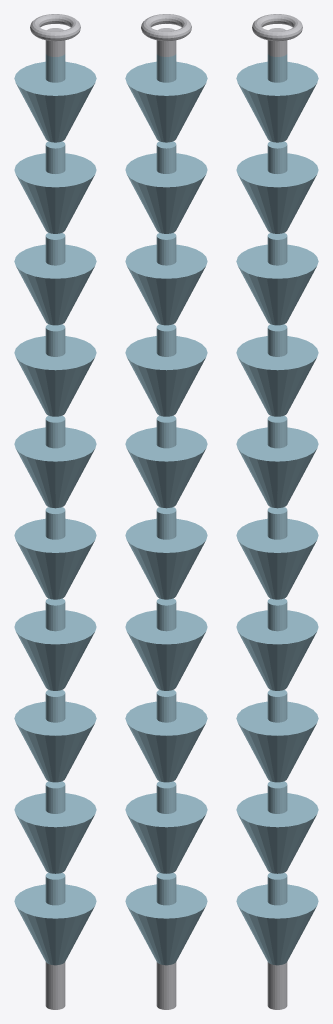
File: Cadena_1318mm.fbx
The picture shows the model from 3 angles, left to right: view 1: azimuth 90°, elevation 25°; view 2: azimuth 150°, elevation 25°; view 3: azimuth 270°, elevation 25°; orthographic projection.
Parts seen in each view (by area): view 1: Cadena_1318mm; view 2: Cadena_1318mm; view 3: Cadena_1318mm.
Boxes of the visible parts, x1,y1,x2,y2 form: Cadena_1318mm: (14,14,96,1009); Cadena_1318mm: (125,14,207,1009); Cadena_1318mm: (236,14,318,1009).
Bounding box in the file's own units: 10 × 132 × 10.
